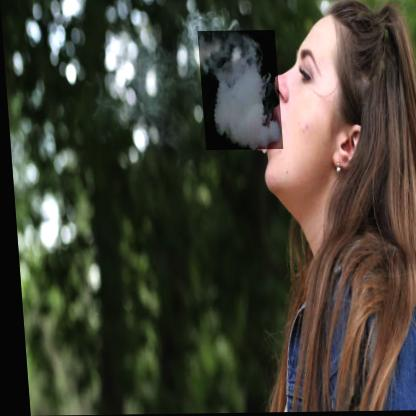smoke: (197, 31, 281, 151)
